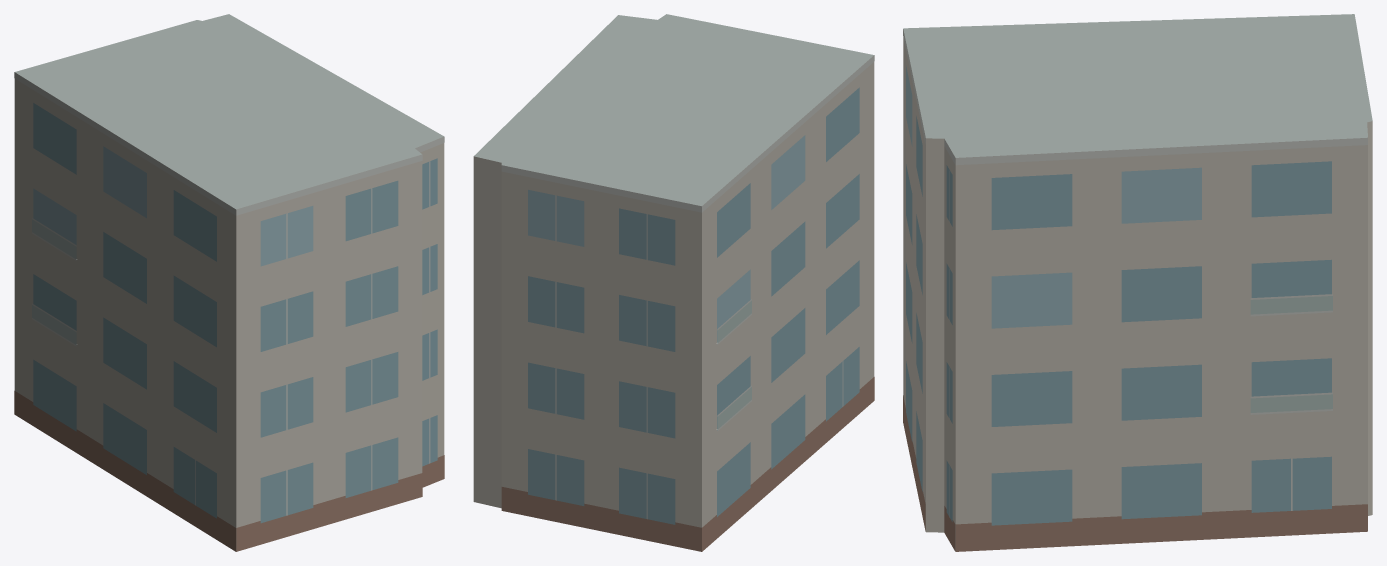
The model's file is survey-upis-33017351.glb.
The picture shows the model from 3 angles, left to right: view 1: azimuth 30°, elevation 25°; view 2: azimuth 150°, elevation 25°; view 3: azimuth 270°, elevation 25°; orthographic projection. The views are drawn at different scales.
Visible parts, largest first — view 1: survey-upis-33017351.tmp; view 2: survey-upis-33017351.tmp; view 3: survey-upis-33017351.tmp.
Boxes of the visible parts, x1=… form: survey-upis-33017351.tmp: x1=14, y1=14, x2=444, y2=551; survey-upis-33017351.tmp: x1=473, y1=14, x2=874, y2=551; survey-upis-33017351.tmp: x1=903, y1=14, x2=1372, y2=551.
Size of the model in its own units: 10.35 by 13.2 by 14.27.
